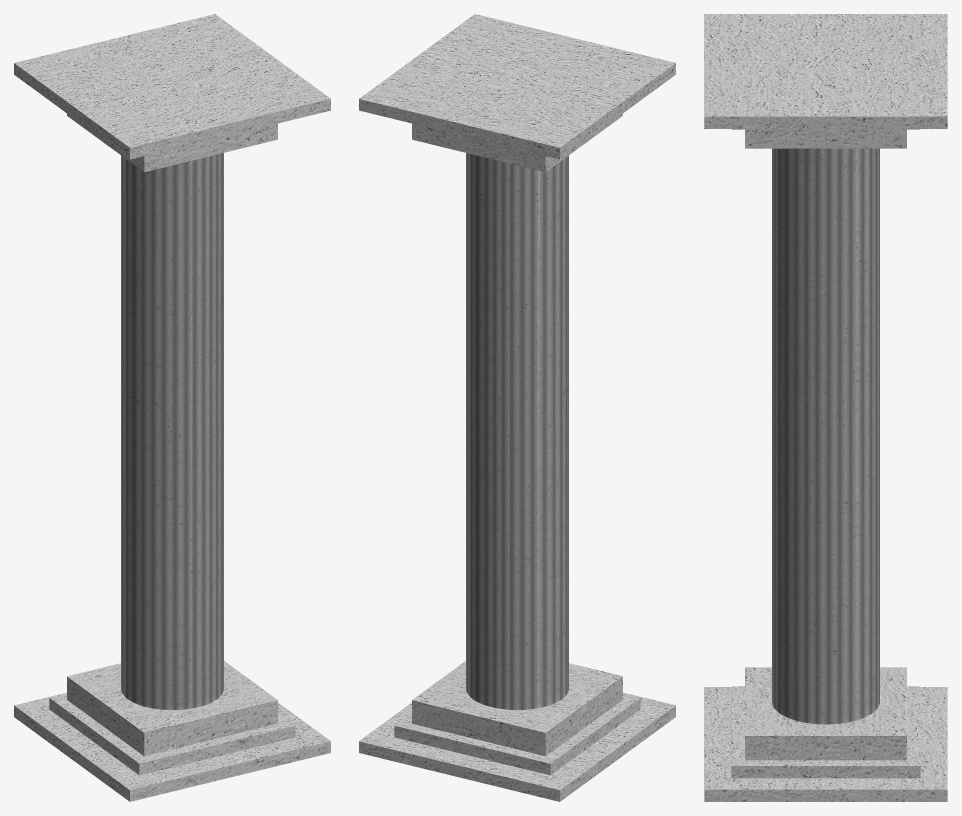
Rendered from collumn.obj.
3 renders of one model, left to right at view 1: azimuth 30°, elevation 25°; view 2: azimuth 150°, elevation 25°; view 3: azimuth 270°, elevation 25°, orthographic. The views are drawn at different scales.
Visible parts, largest first — view 1: Mesh_collumn_collumn_auv; view 2: Mesh_collumn_collumn_auv; view 3: Mesh_collumn_collumn_auv.
Part boxes in pixels (box(x1,y1,x2,y2)): Mesh_collumn_collumn_auv: box(14, 14, 330, 801); Mesh_collumn_collumn_auv: box(359, 14, 675, 801); Mesh_collumn_collumn_auv: box(704, 14, 947, 801).
Size of the model in its own units: 4.5 by 14 by 4.5.
